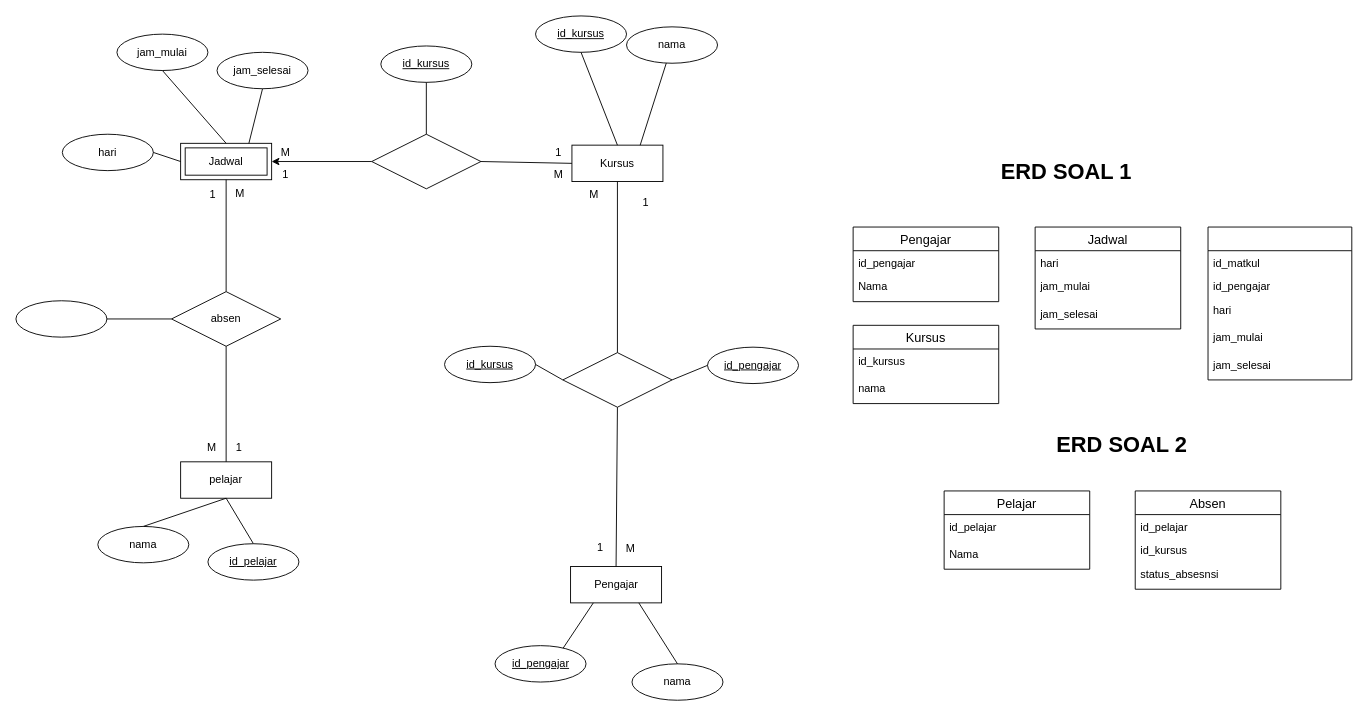
This 1368x716 diagram has some shape labels left out. The shapes that lost their labels are listed below. From the top down, each one's box as (x1, y1, x2, y2) in pixels, then its label:
(371, 133, 481, 189): memiliki
(15, 300, 107, 337): status_kehadiran
(1207, 226, 1352, 380): Jadwal_Kursus
(562, 352, 672, 407): mengajar
